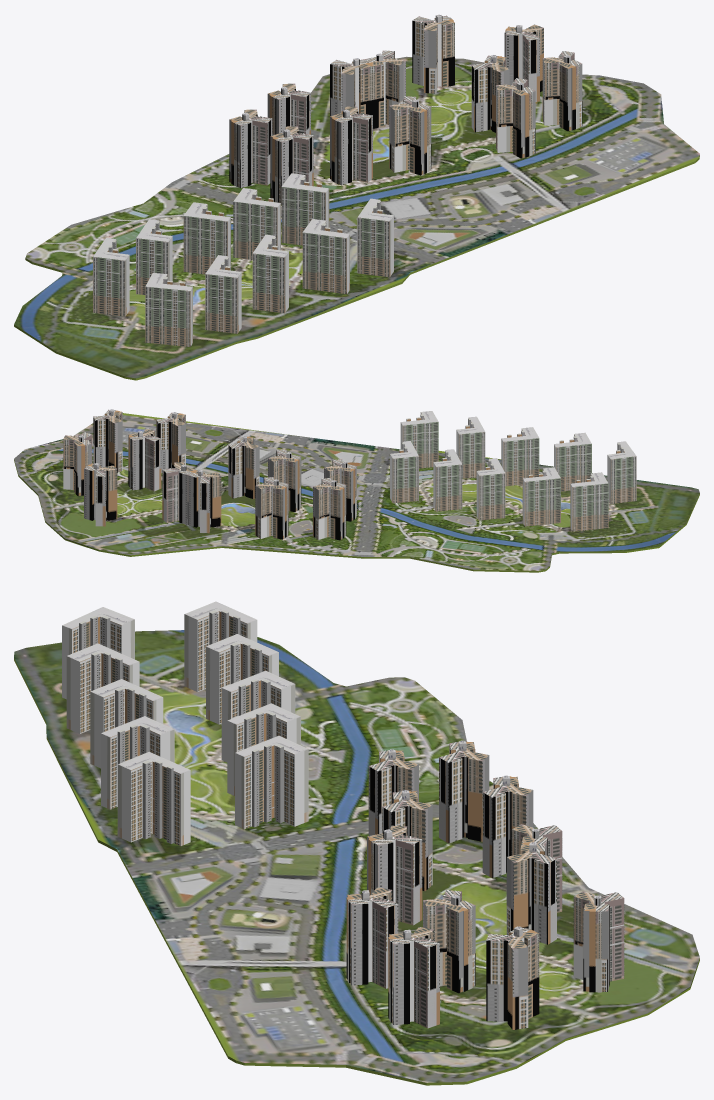
File: ICJ00106_B.glb
3 renders of one model, top to bottom at view 1: azimuth 30°, elevation 25°; view 2: azimuth 150°, elevation 25°; view 3: azimuth 270°, elevation 25°, orthographic. The views are drawn at different scales.
Visible parts, largest first — view 1: MainBuilding; view 2: MainBuilding; view 3: MainBuilding.
Boxes of the visible parts, bbox=[...] form: MainBuilding: bbox=[14, 14, 699, 380]; MainBuilding: bbox=[14, 409, 699, 572]; MainBuilding: bbox=[14, 601, 699, 1085].
Bounding box in the file's own units: 4.64 × 0.4306 × 2.96.
Materials: 1 (1 with a texture image).
